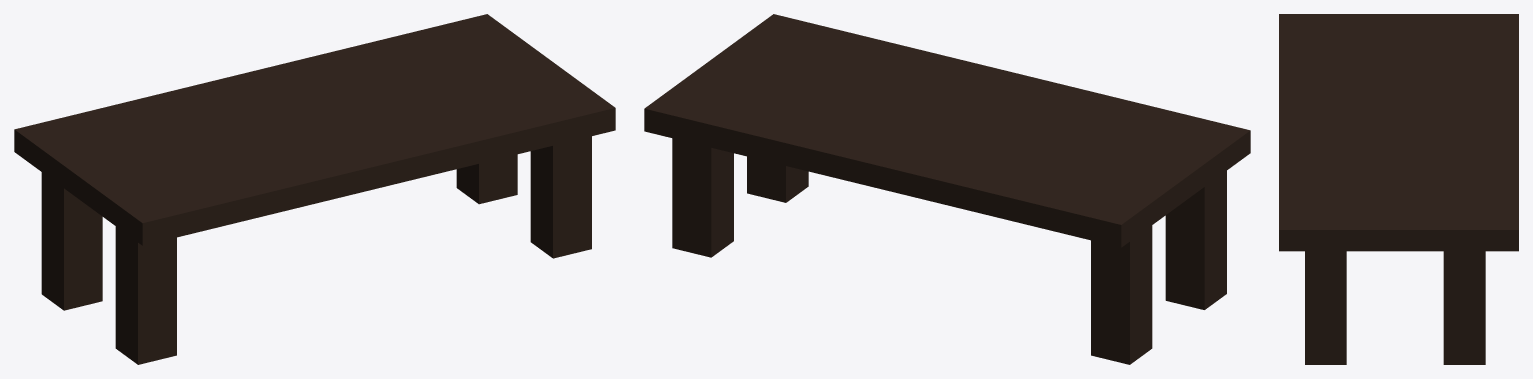
The model's file is table.glb.
The picture shows the model from 3 angles, left to right: view 1: azimuth 30°, elevation 25°; view 2: azimuth 150°, elevation 25°; view 3: azimuth 270°, elevation 25°; orthographic projection. The views are drawn at different scales.
Visible parts, largest first — view 1: mesh_id27, mesh_id45, mesh_id35, mesh_id44, mesh_id29; view 2: mesh_id27, mesh_id35, mesh_id45, mesh_id29, mesh_id44; view 3: mesh_id27, mesh_id29, mesh_id44.
Boxes of the visible parts, box(x1,y1,x2,y2) form: mesh_id27: box(14, 14, 615, 245); mesh_id45: box(115, 226, 176, 364); mesh_id35: box(41, 172, 102, 310); mesh_id44: box(530, 136, 591, 258); mesh_id29: box(456, 154, 517, 204); mesh_id27: box(644, 14, 1250, 247); mesh_id35: box(1091, 225, 1152, 364); mesh_id45: box(1165, 171, 1226, 309); mesh_id29: box(672, 138, 733, 257); mesh_id44: box(747, 156, 808, 202); mesh_id27: box(1279, 14, 1518, 251); mesh_id29: box(1443, 251, 1485, 364); mesh_id44: box(1305, 251, 1346, 364).
Bounding box in the file's own units: 1.05 × 0.3278 × 0.4941.
Materials: 3 (3 with a texture image).
